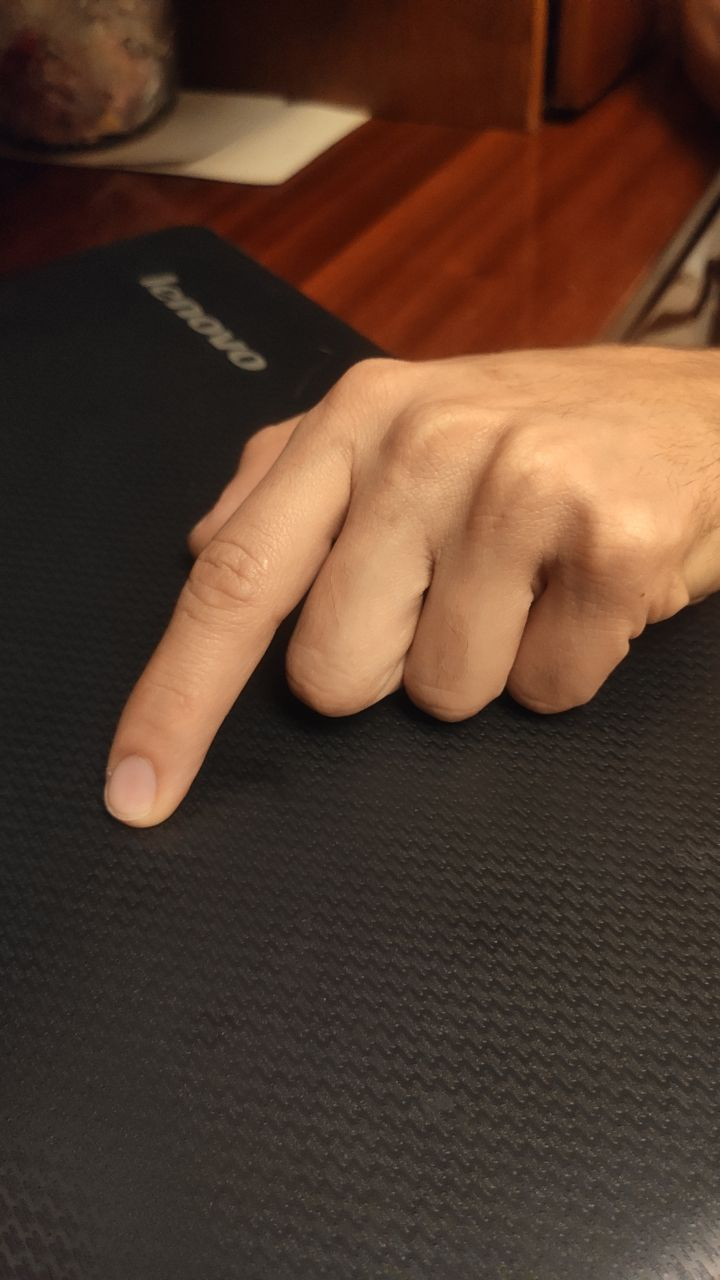finger: (104, 729, 190, 825)
